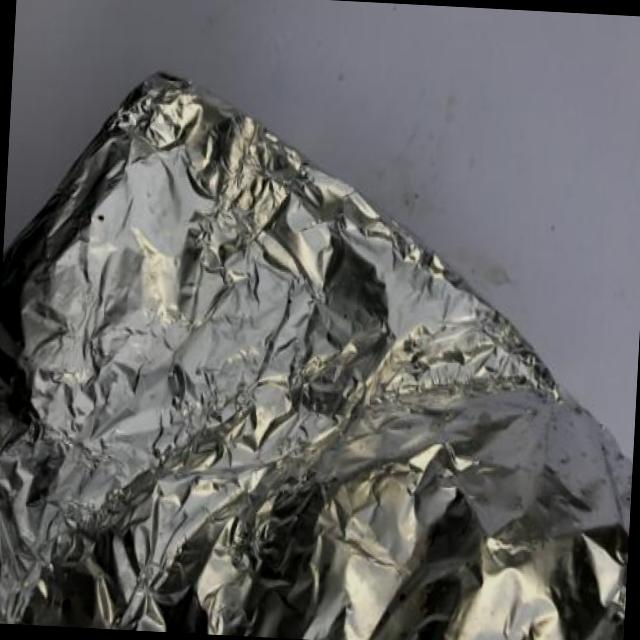kim_loai: (0, 72, 633, 640)
